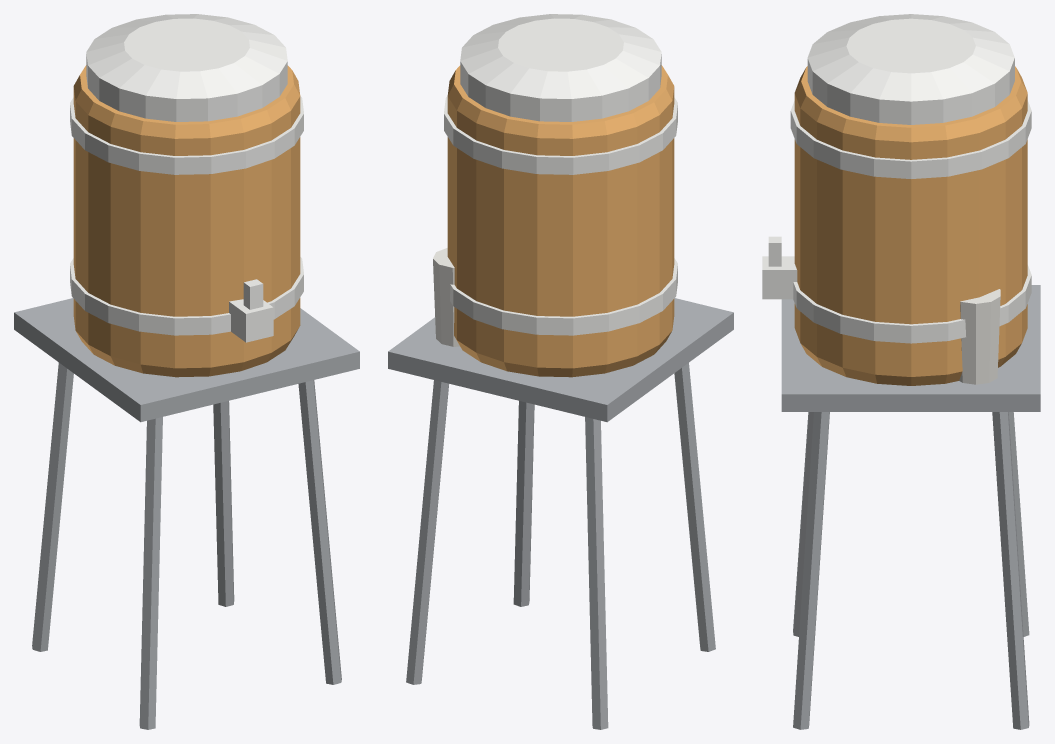
The model's file is water_cooler.glb.
3 renders of one model, left to right at view 1: azimuth 30°, elevation 25°; view 2: azimuth 150°, elevation 25°; view 3: azimuth 270°, elevation 25°, orthographic. The views are drawn at different scales.
Visible parts, largest first — view 1: water_cooler_cooler_o, water_cooler_steel, water_cooler_paint_w; view 2: water_cooler_cooler_o, water_cooler_steel, water_cooler_paint_w, water_cooler_paper; view 3: water_cooler_cooler_o, water_cooler_paint_w, water_cooler_steel, water_cooler_paper.
Part boxes in pixels (x1,y1,x2,y2): water_cooler_cooler_o: (73, 65, 300, 377); water_cooler_steel: (14, 298, 359, 729); water_cooler_paint_w: (70, 14, 303, 342); water_cooler_cooler_o: (447, 65, 674, 377); water_cooler_steel: (388, 298, 733, 729); water_cooler_paint_w: (444, 14, 677, 335); water_cooler_paper: (433, 248, 459, 346); water_cooler_cooler_o: (794, 66, 1027, 385); water_cooler_paint_w: (762, 14, 1031, 343); water_cooler_steel: (781, 285, 1040, 729); water_cooler_paper: (959, 289, 1000, 384).
Bounding box in the file's own units: 0.4 × 1.08 × 0.43.
